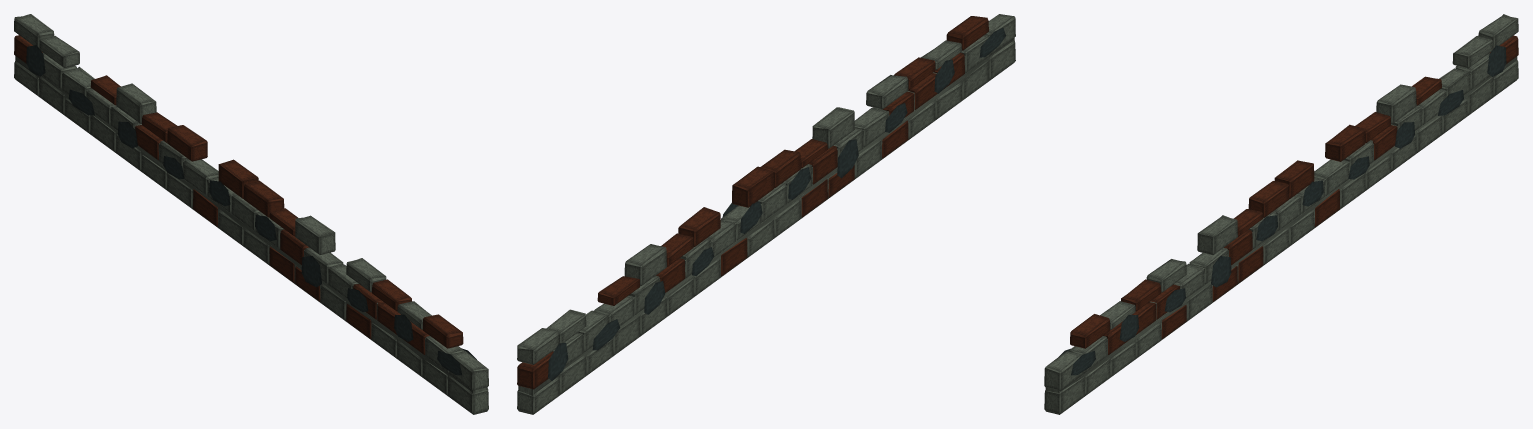
Rendered from THStage_WestBoundary.fbx.
3 renders of one model, left to right at view 1: azimuth 30°, elevation 25°; view 2: azimuth 150°, elevation 25°; view 3: azimuth 330°, elevation 25°, orthographic. The views are drawn at different scales.
Visible parts, largest first — view 1: THStage_WestBoundary.029; view 2: THStage_WestBoundary.029; view 3: THStage_WestBoundary.029.
Boxes of the visible parts, <box> form: THStage_WestBoundary.029: <box>14,14,488,414</box>; THStage_WestBoundary.029: <box>517,14,1015,414</box>; THStage_WestBoundary.029: <box>1044,14,1518,414</box>.
Bounding box in the file's own units: 0.178 × 0.672 × 8.19.
1 material, 1 textured.
